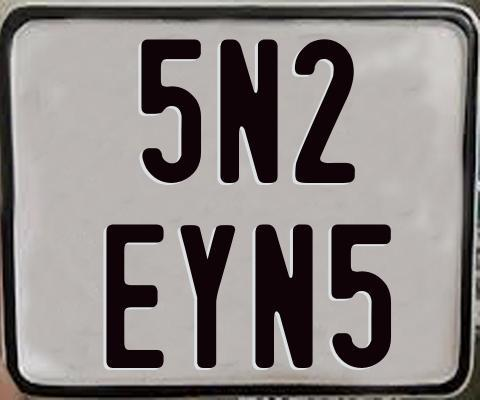2: (293, 37, 353, 181)
5: (141, 39, 205, 186), (331, 224, 395, 369)
E: (105, 224, 165, 369)
N: (255, 222, 315, 371), (217, 39, 275, 185)
Y: (180, 222, 241, 371)
